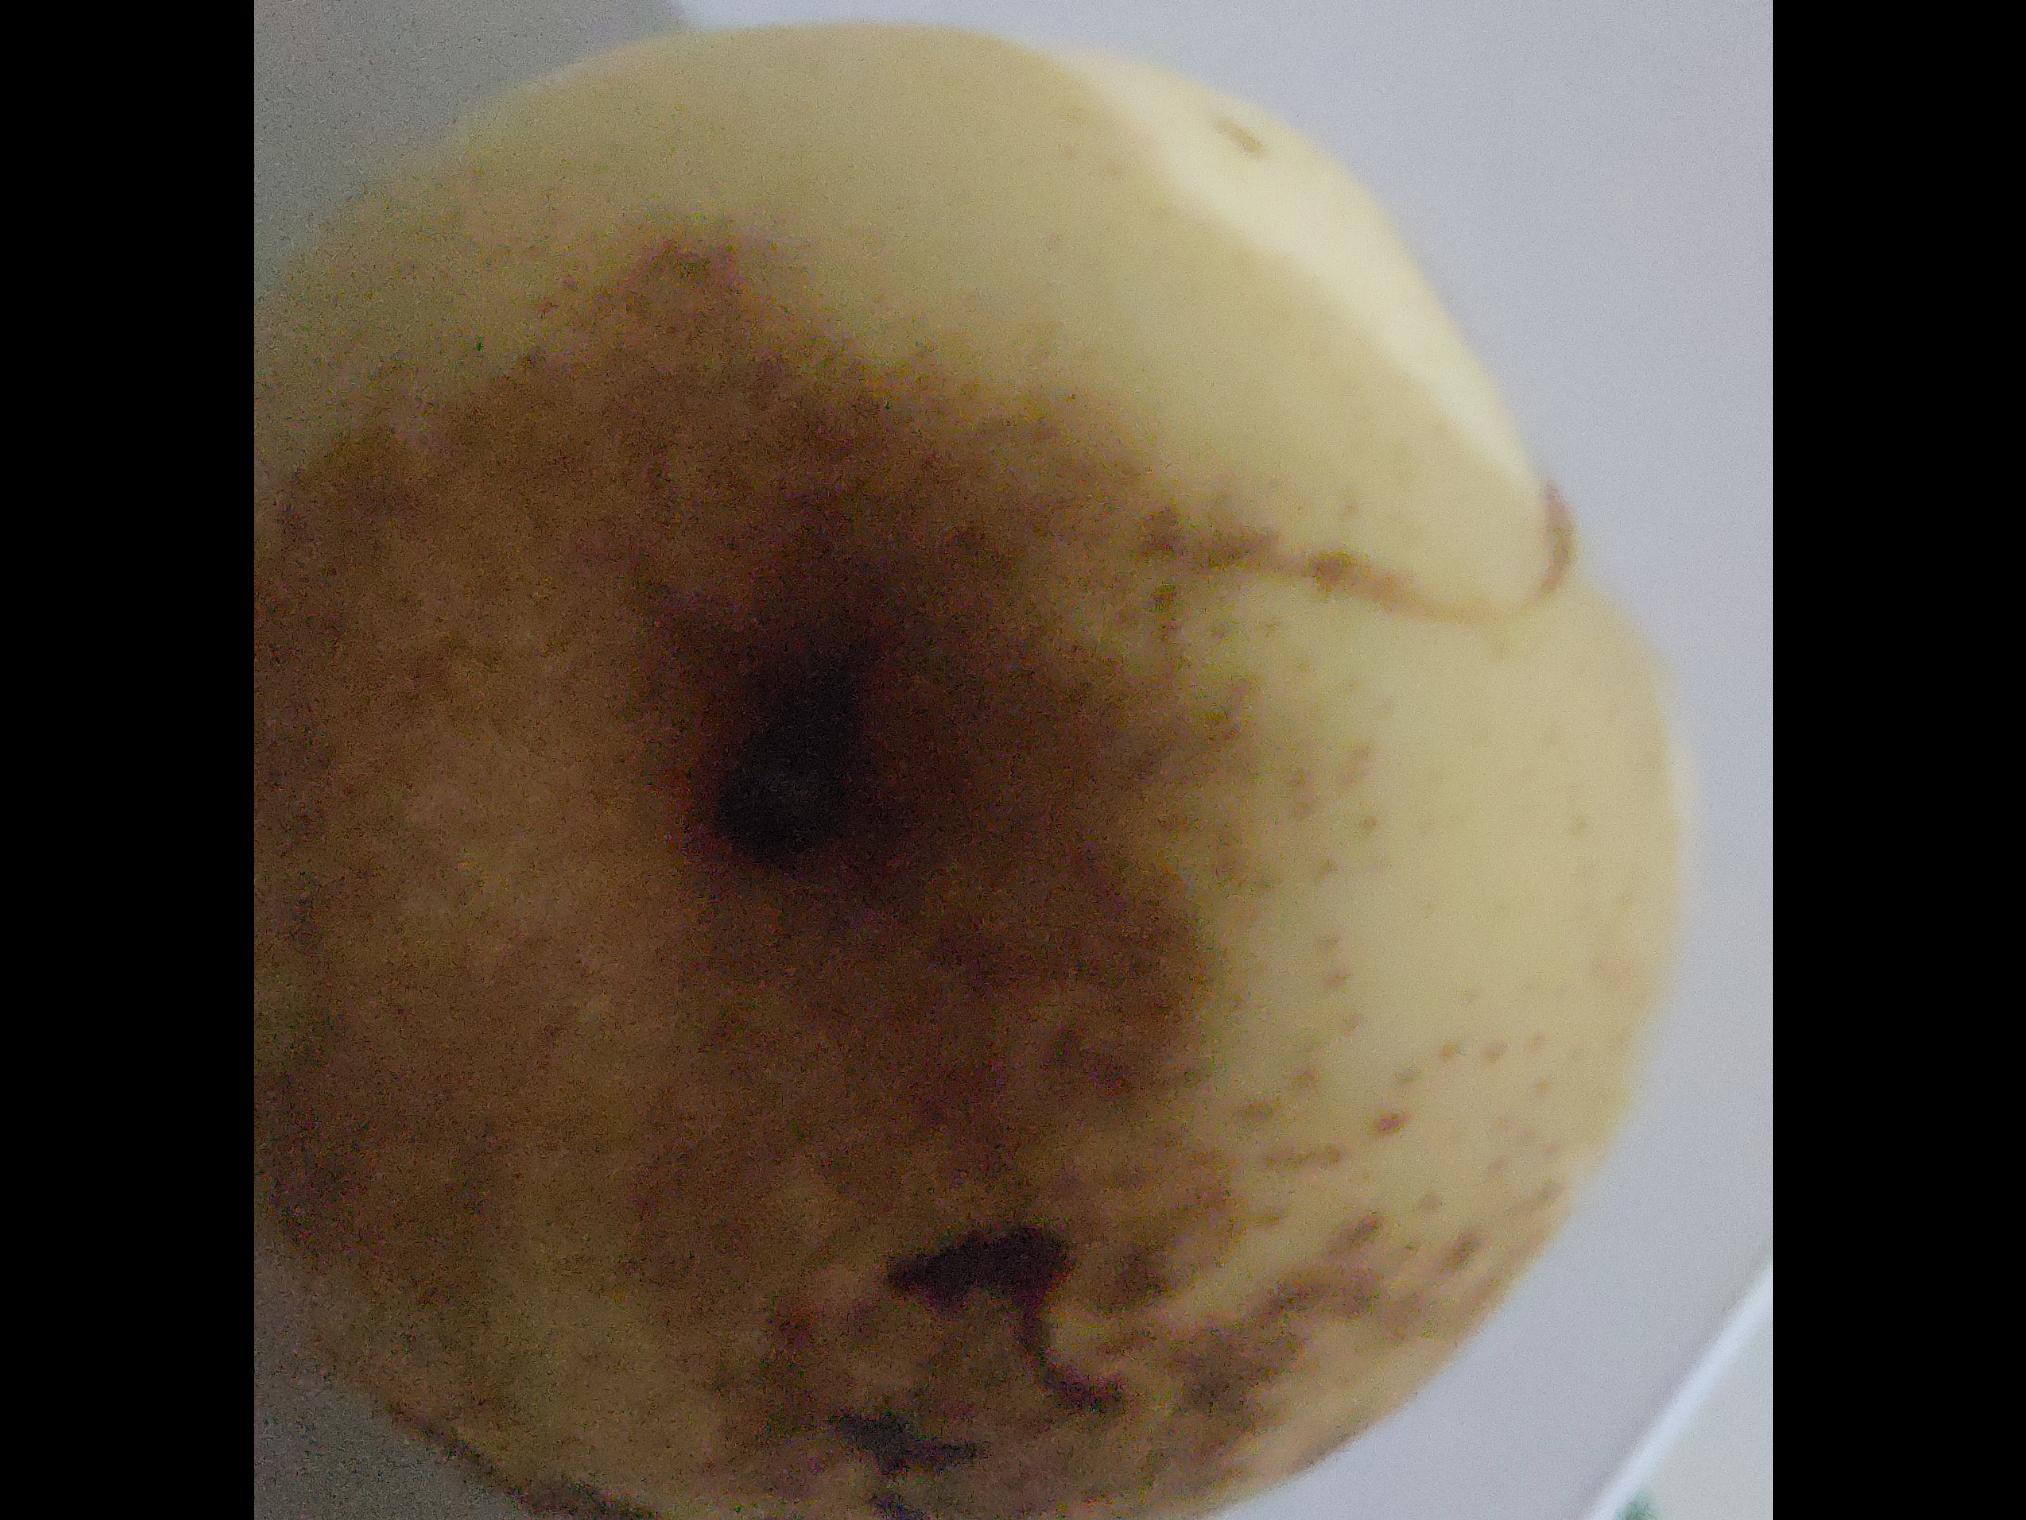Bad Pear: (252, 0, 1696, 1520)
